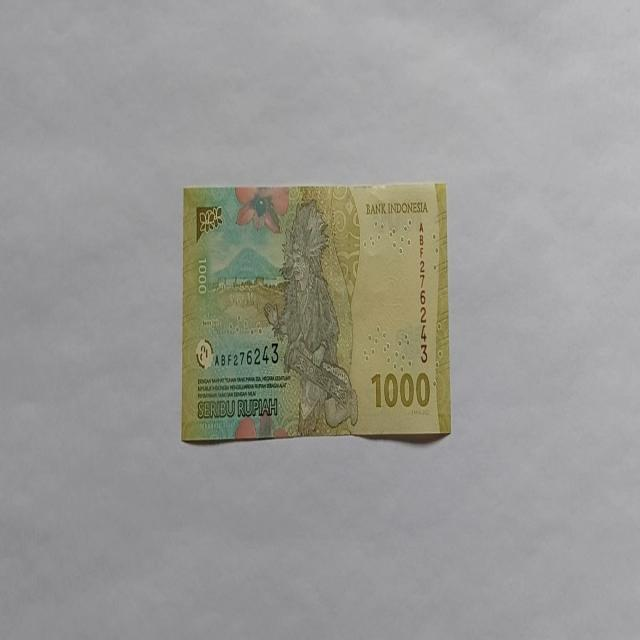seribu rupiah kertas: (180, 180, 452, 442)
